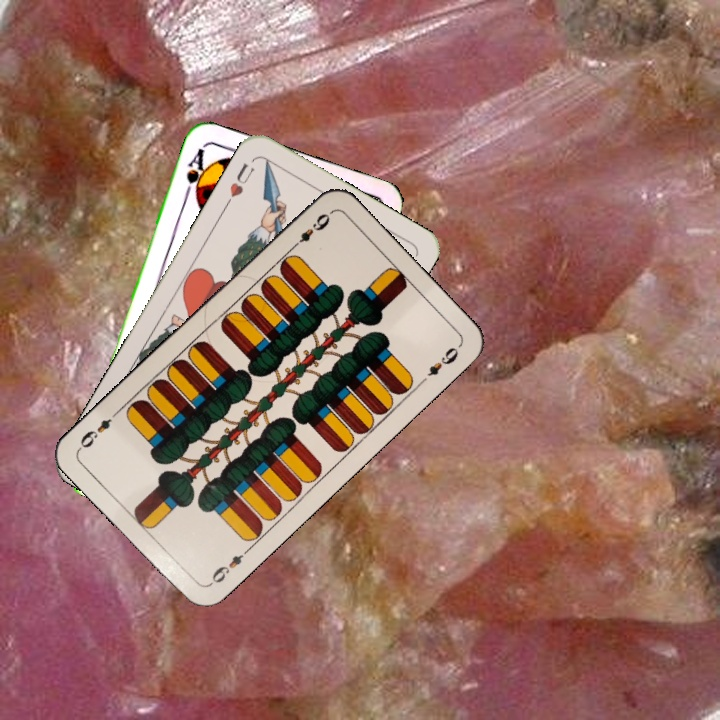E9: (286, 208, 334, 253), (205, 544, 253, 588)
HU: (221, 158, 257, 210)
SA: (181, 140, 212, 200)
